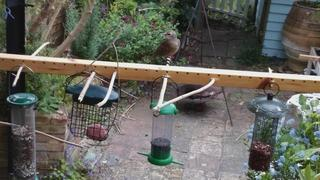starling: (148, 30, 180, 66)
